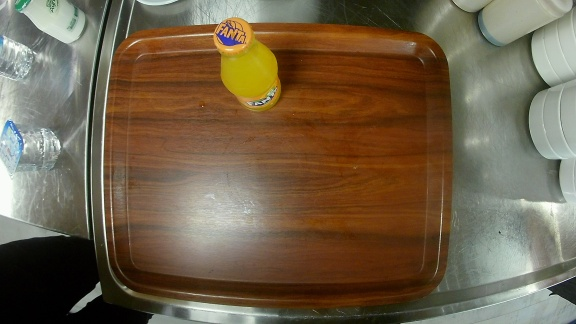camfanta: (209, 17, 285, 119)
